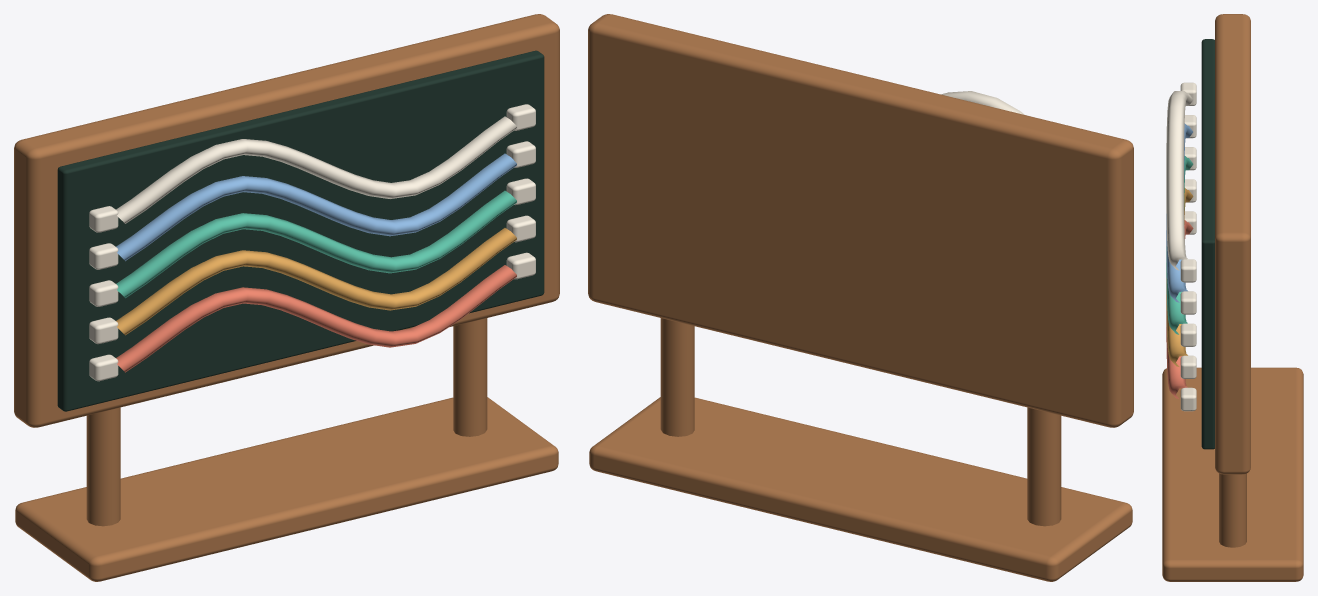
The model's file is cable-art-panel.glb.
3 renders of one model, left to right at view 1: azimuth 30°, elevation 25°; view 2: azimuth 150°, elevation 25°; view 3: azimuth 270°, elevation 25°, orthographic. The views are drawn at different scales.
Visible parts, largest first — view 1: ethernet_art_display; view 2: ethernet_art_display; view 3: ethernet_art_display.
Boxes of the visible parts, x1,y1,x2,y2 form: ethernet_art_display: (14, 14, 559, 581); ethernet_art_display: (588, 14, 1133, 581); ethernet_art_display: (1162, 14, 1303, 581).
Bounding box in the file's own units: 3.93 × 2.94 × 1.04.
